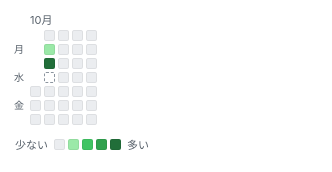
it: GrassCalendar › uses the tooltip function for the tooltip and the accessible name
The width and height of the screenshot is (332, 172).
Focus the button named "50 commits" at point(50, 64), box [44,58,55,69]
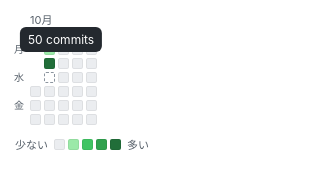
Result: the tooltip "50 commits" is shown at [20,27,102,52]
